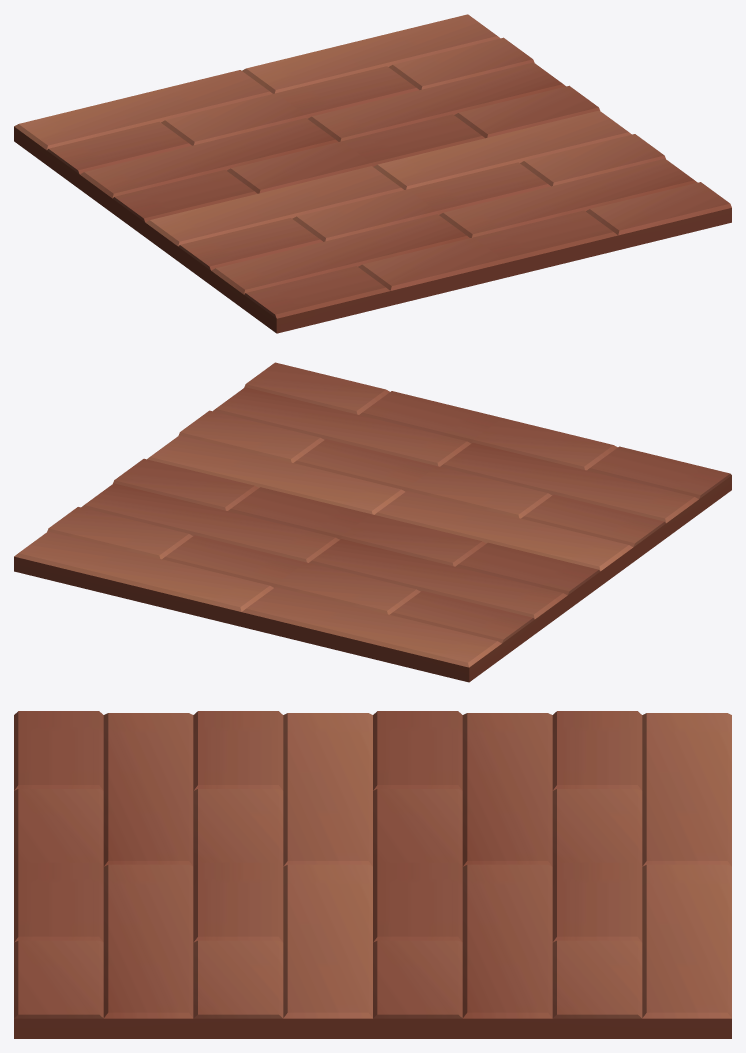
The model's file is floor.glb.
3 renders of one model, top to bottom at view 1: azimuth 30°, elevation 25°; view 2: azimuth 150°, elevation 25°; view 3: azimuth 270°, elevation 25°, orthographic. The views are drawn at different scales.
Visible parts, largest first — view 1: floor_wood_large; view 2: floor_wood_large; view 3: floor_wood_large.
Boxes of the visible parts, x1,y1,x2,y2 form: floor_wood_large: (14, 14, 731, 333); floor_wood_large: (14, 362, 731, 682); floor_wood_large: (14, 711, 731, 1038).
Size of the model in its own units: 4 by 0.1499 by 4.
Materials: 1 (1 with a texture image).
